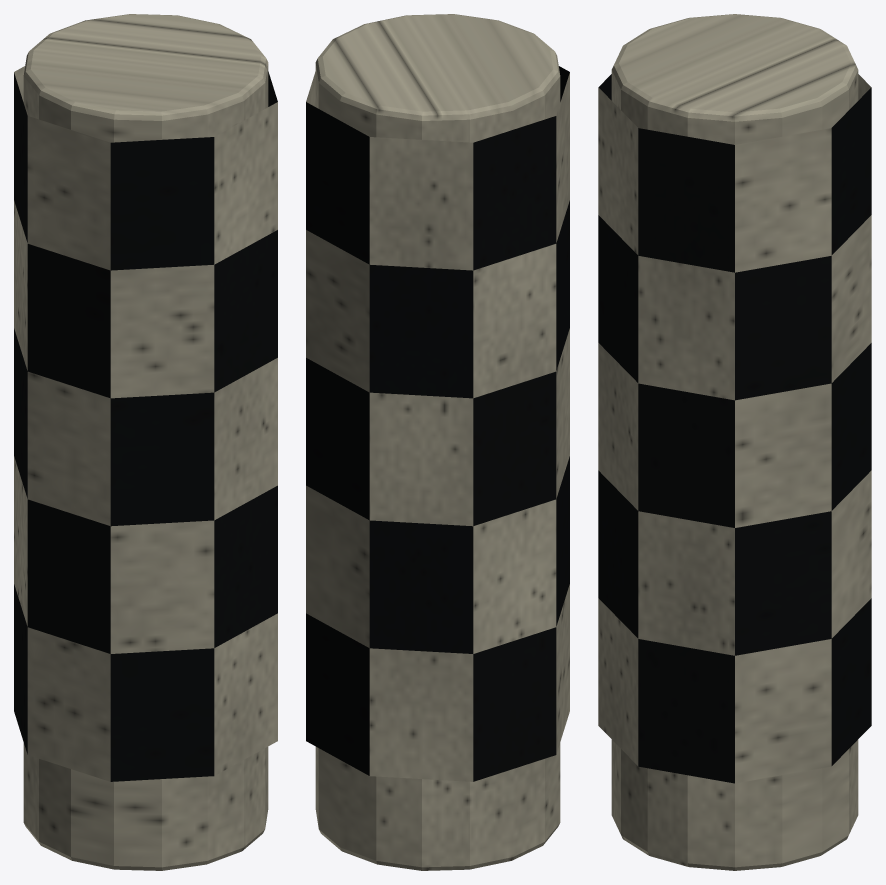
File: PROP-994B2FFBFC1E_lod0.glb
The picture shows the model from 3 angles, left to right: view 1: azimuth 30°, elevation 25°; view 2: azimuth 150°, elevation 25°; view 3: azimuth 270°, elevation 25°; orthographic projection.
Visible parts, largest first — view 1: checker_pattern, checker_pattern.001, bollard; view 2: checker_pattern.001, checker_pattern, bollard; view 3: checker_pattern, checker_pattern.001, bollard.
Boxes of the visible parts, box(x1,y1,x2,y2) form: checker_pattern: box(14, 66, 277, 781); checker_pattern.001: box(14, 71, 277, 781); bollard: box(23, 14, 268, 870); checker_pattern.001: box(306, 66, 569, 781); checker_pattern: box(306, 71, 569, 781); bollard: box(315, 14, 560, 870); checker_pattern: box(598, 74, 871, 783); checker_pattern.001: box(598, 74, 871, 783); bollard: box(611, 14, 858, 870).
Bounding box in the file's own units: 0.31 × 0.95 × 0.31.
Materials: 2 (2 with a texture image).
